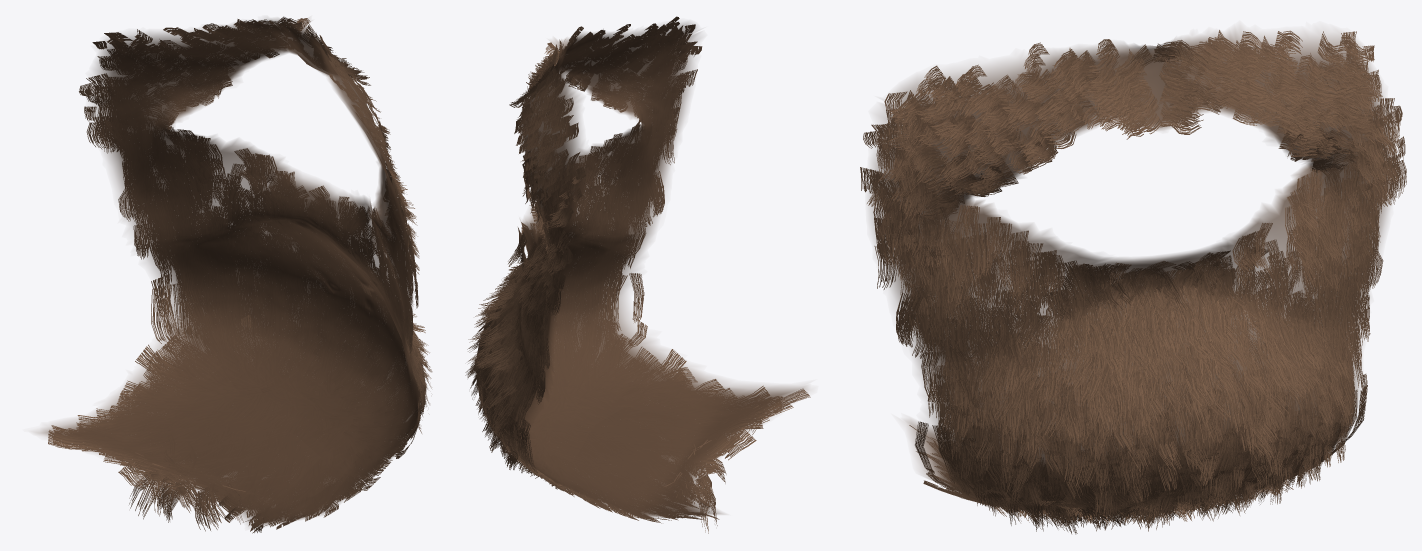
The model's file is beard-m1-goatee.glb.
3 renders of one model, left to right at view 1: azimuth 30°, elevation 25°; view 2: azimuth 150°, elevation 25°; view 3: azimuth 270°, elevation 25°, orthographic. The views are drawn at different scales.
Parts seen in each view (by area): view 1: Beard_m1_goatee_root, Beard_m1_goatee_cards; view 2: Beard_m1_goatee_root, Beard_m1_goatee_cards; view 3: Beard_m1_goatee_cards, Beard_m1_goatee_root.
Boxes of the visible parts, box(x1,y1,x2,y2) form: Beard_m1_goatee_root: box(35, 18, 420, 526); Beard_m1_goatee_cards: box(48, 16, 432, 533); Beard_m1_goatee_root: box(483, 22, 808, 517); Beard_m1_goatee_cards: box(465, 16, 810, 533); Beard_m1_goatee_cards: box(860, 30, 1406, 534); Beard_m1_goatee_root: box(870, 28, 1391, 502).
Bounding box in the file's own units: 0.0666 × 0.0926 × 0.0842.
Materials: 2 (1 with a texture image).
